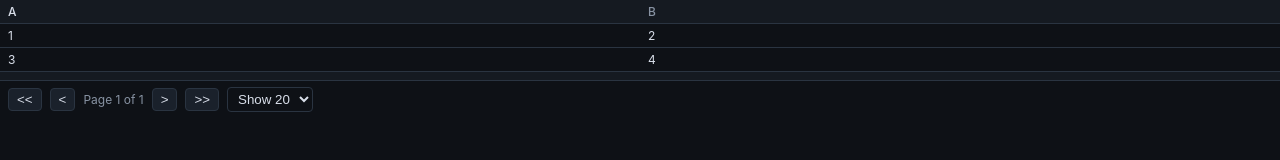
Test: TableRenderer sortable headers accessibility › sets aria-sort none/descending/ascending across clicks and hides the sort glyph from assistive tech
The width and height of the screenshot is (1280, 160).
# Numeric columns sort descending-first by TanStack's default.
Click the text "A" at (12, 12), box top-left (8, 4), bottom-right (16, 19)
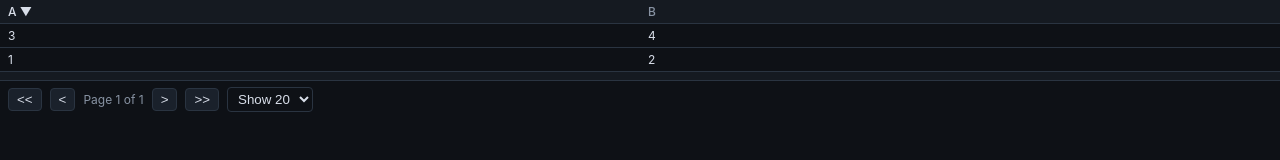
Expected: the text "▼" is shown, top-left (16, 4), bottom-right (32, 19)
Click the text "A" at (12, 12), box top-left (8, 4), bottom-right (16, 19)
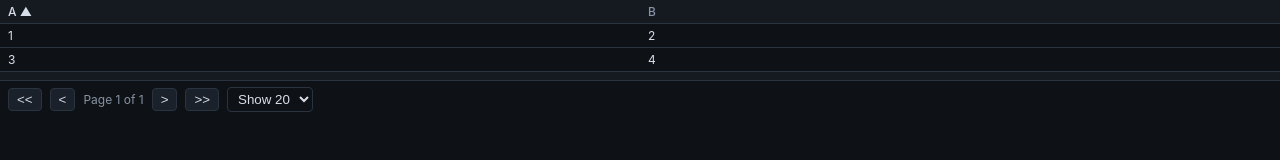
Expected: the text "▲" is shown, top-left (16, 4), bottom-right (32, 19)
